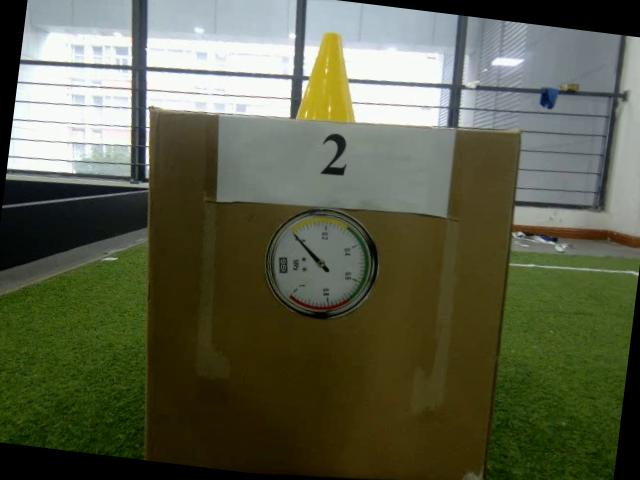2: (316, 131, 351, 176)
Dashboard: (260, 204, 382, 325)
ssi: (277, 256, 288, 274)
yellow_barrel: (294, 29, 365, 126)
